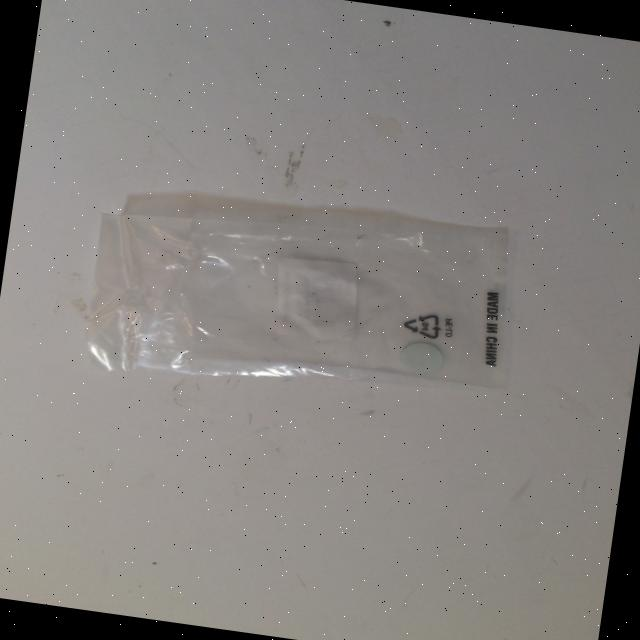plastic: (78, 170, 528, 427)
